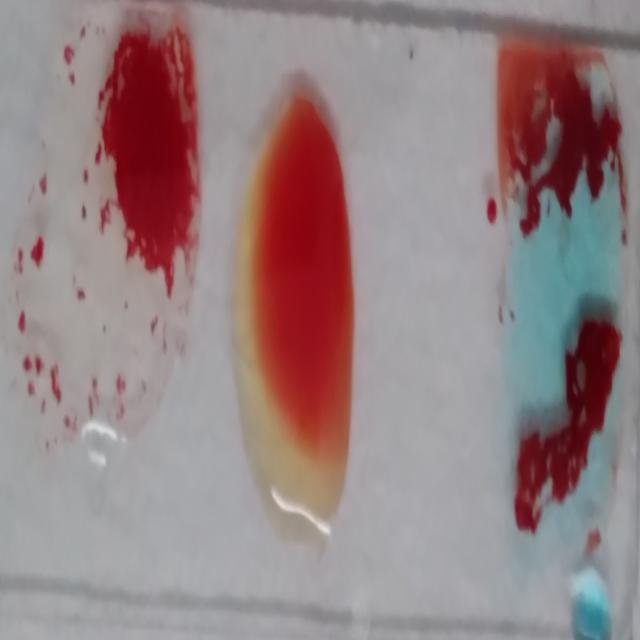A: (492, 61, 633, 556)
D: (38, 6, 196, 437)
